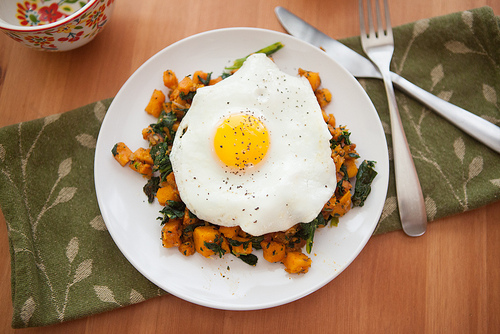fried egg: (189, 69, 322, 222)
